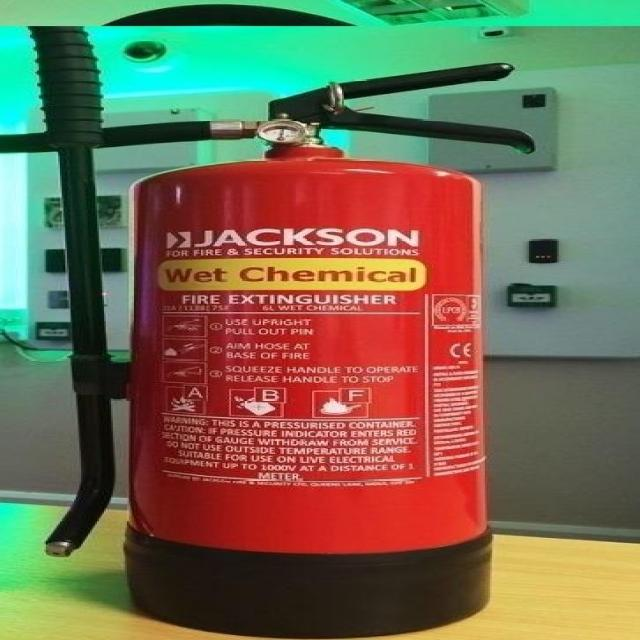fire_extinguisher: (0, 23, 550, 638)
